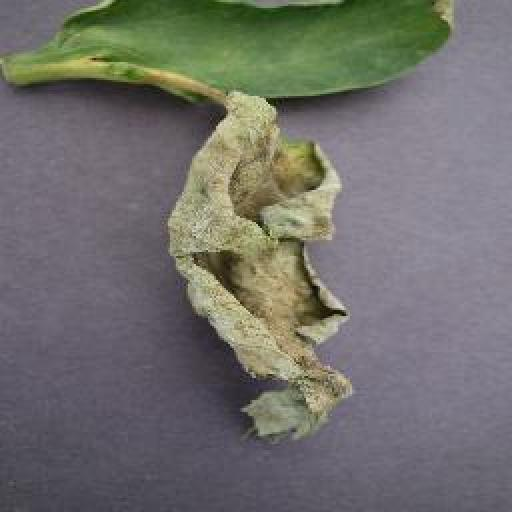disease_tomato: (168, 86, 356, 456)
